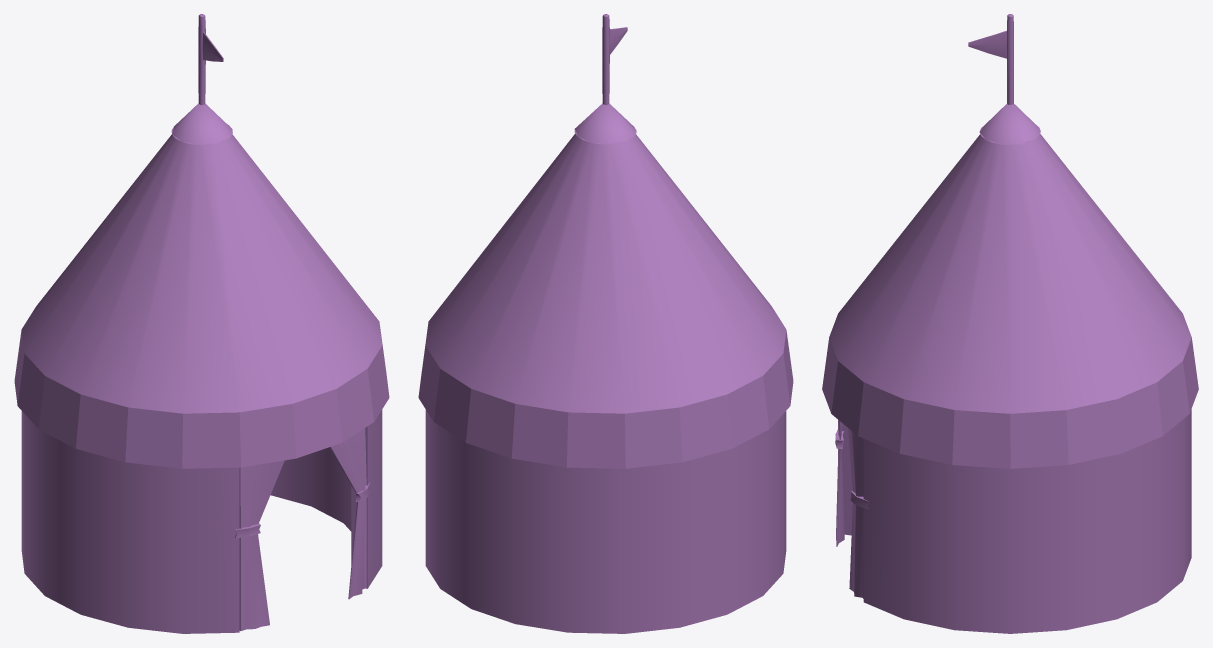
File: ModelosEscenarioCastilloV3.fbx
3 renders of one model, left to right at view 1: azimuth 30°, elevation 25°; view 2: azimuth 150°, elevation 25°; view 3: azimuth 270°, elevation 25°, orthographic.
Parts seen in each view (by area): view 1: Manta_Manta_002; view 2: Manta_Manta_002; view 3: Manta_Manta_002.
Part boxes in pixels (box(x1,y1,x2,y2)): Manta_Manta_002: box(14, 14, 389, 633); Manta_Manta_002: box(418, 14, 793, 633); Manta_Manta_002: box(822, 14, 1198, 633).
Bounding box in the file's own units: 3.59 × 5.71 × 3.59.
